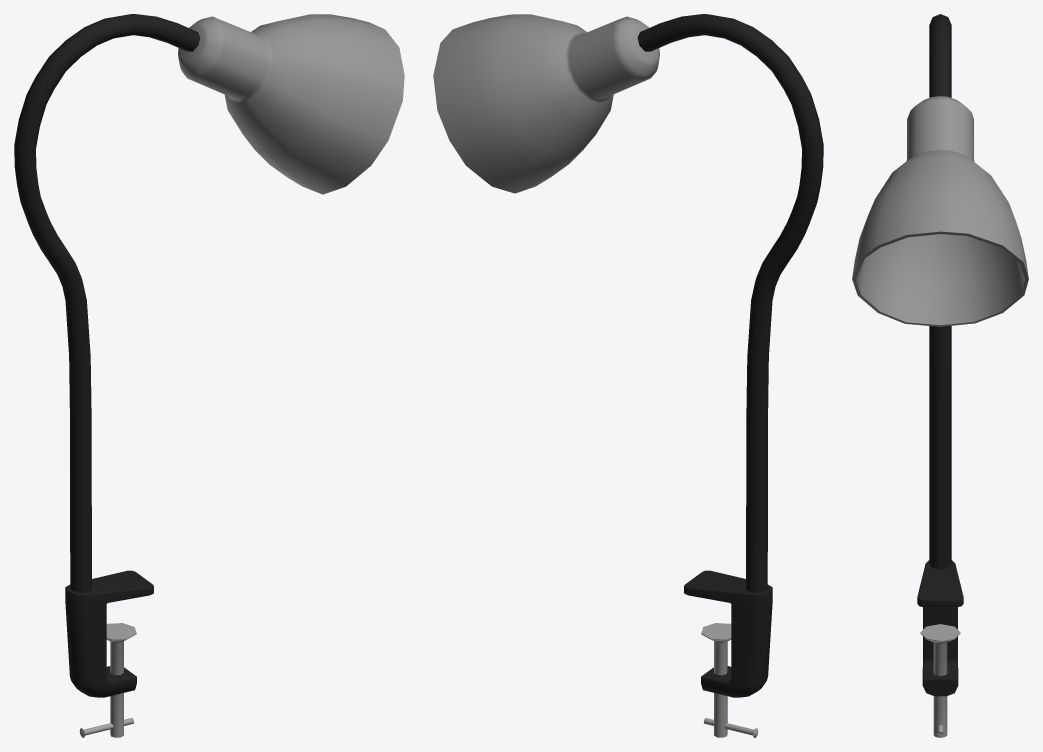
File: lamp15.glb
3 views of the same model, side by side, from view 1: azimuth 30°, elevation 25°; view 2: azimuth 150°, elevation 25°; view 3: azimuth 270°, elevation 25° (orthographic).
Visible parts, largest first — view 1: LP_2, LP_1; view 2: LP_2, LP_1; view 3: LP_2, LP_1.
Boxes of the visible parts, x1,y1,x2,y2 form: LP_2: (178,14,404,194); LP_1: (14,14,200,737); LP_2: (433,14,659,193); LP_1: (637,14,823,737); LP_2: (852,96,1028,326); LP_1: (917,14,963,737).
Bounding box in the file's own units: 0.3061 × 0.5683 × 0.1282.
2 materials, 1 textured.
